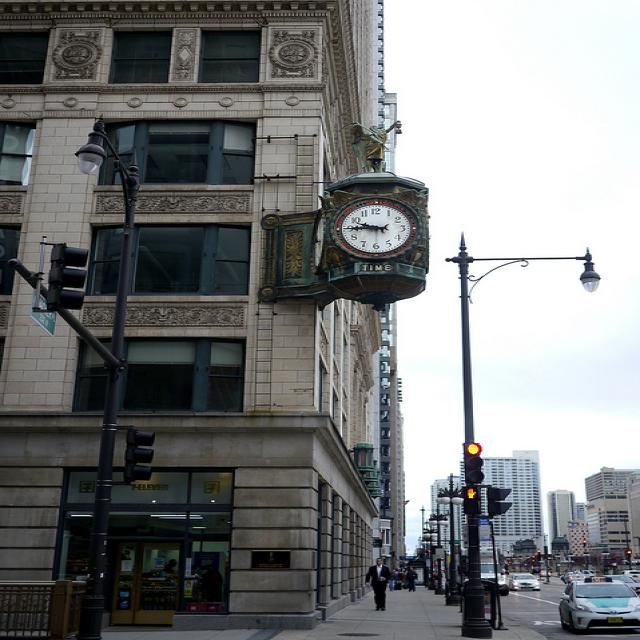Vehicle: (557, 576, 640, 636), (607, 573, 640, 592), (509, 573, 540, 591), (562, 571, 589, 583), (481, 562, 496, 579), (621, 570, 640, 582), (582, 570, 596, 577), (541, 568, 551, 576)
